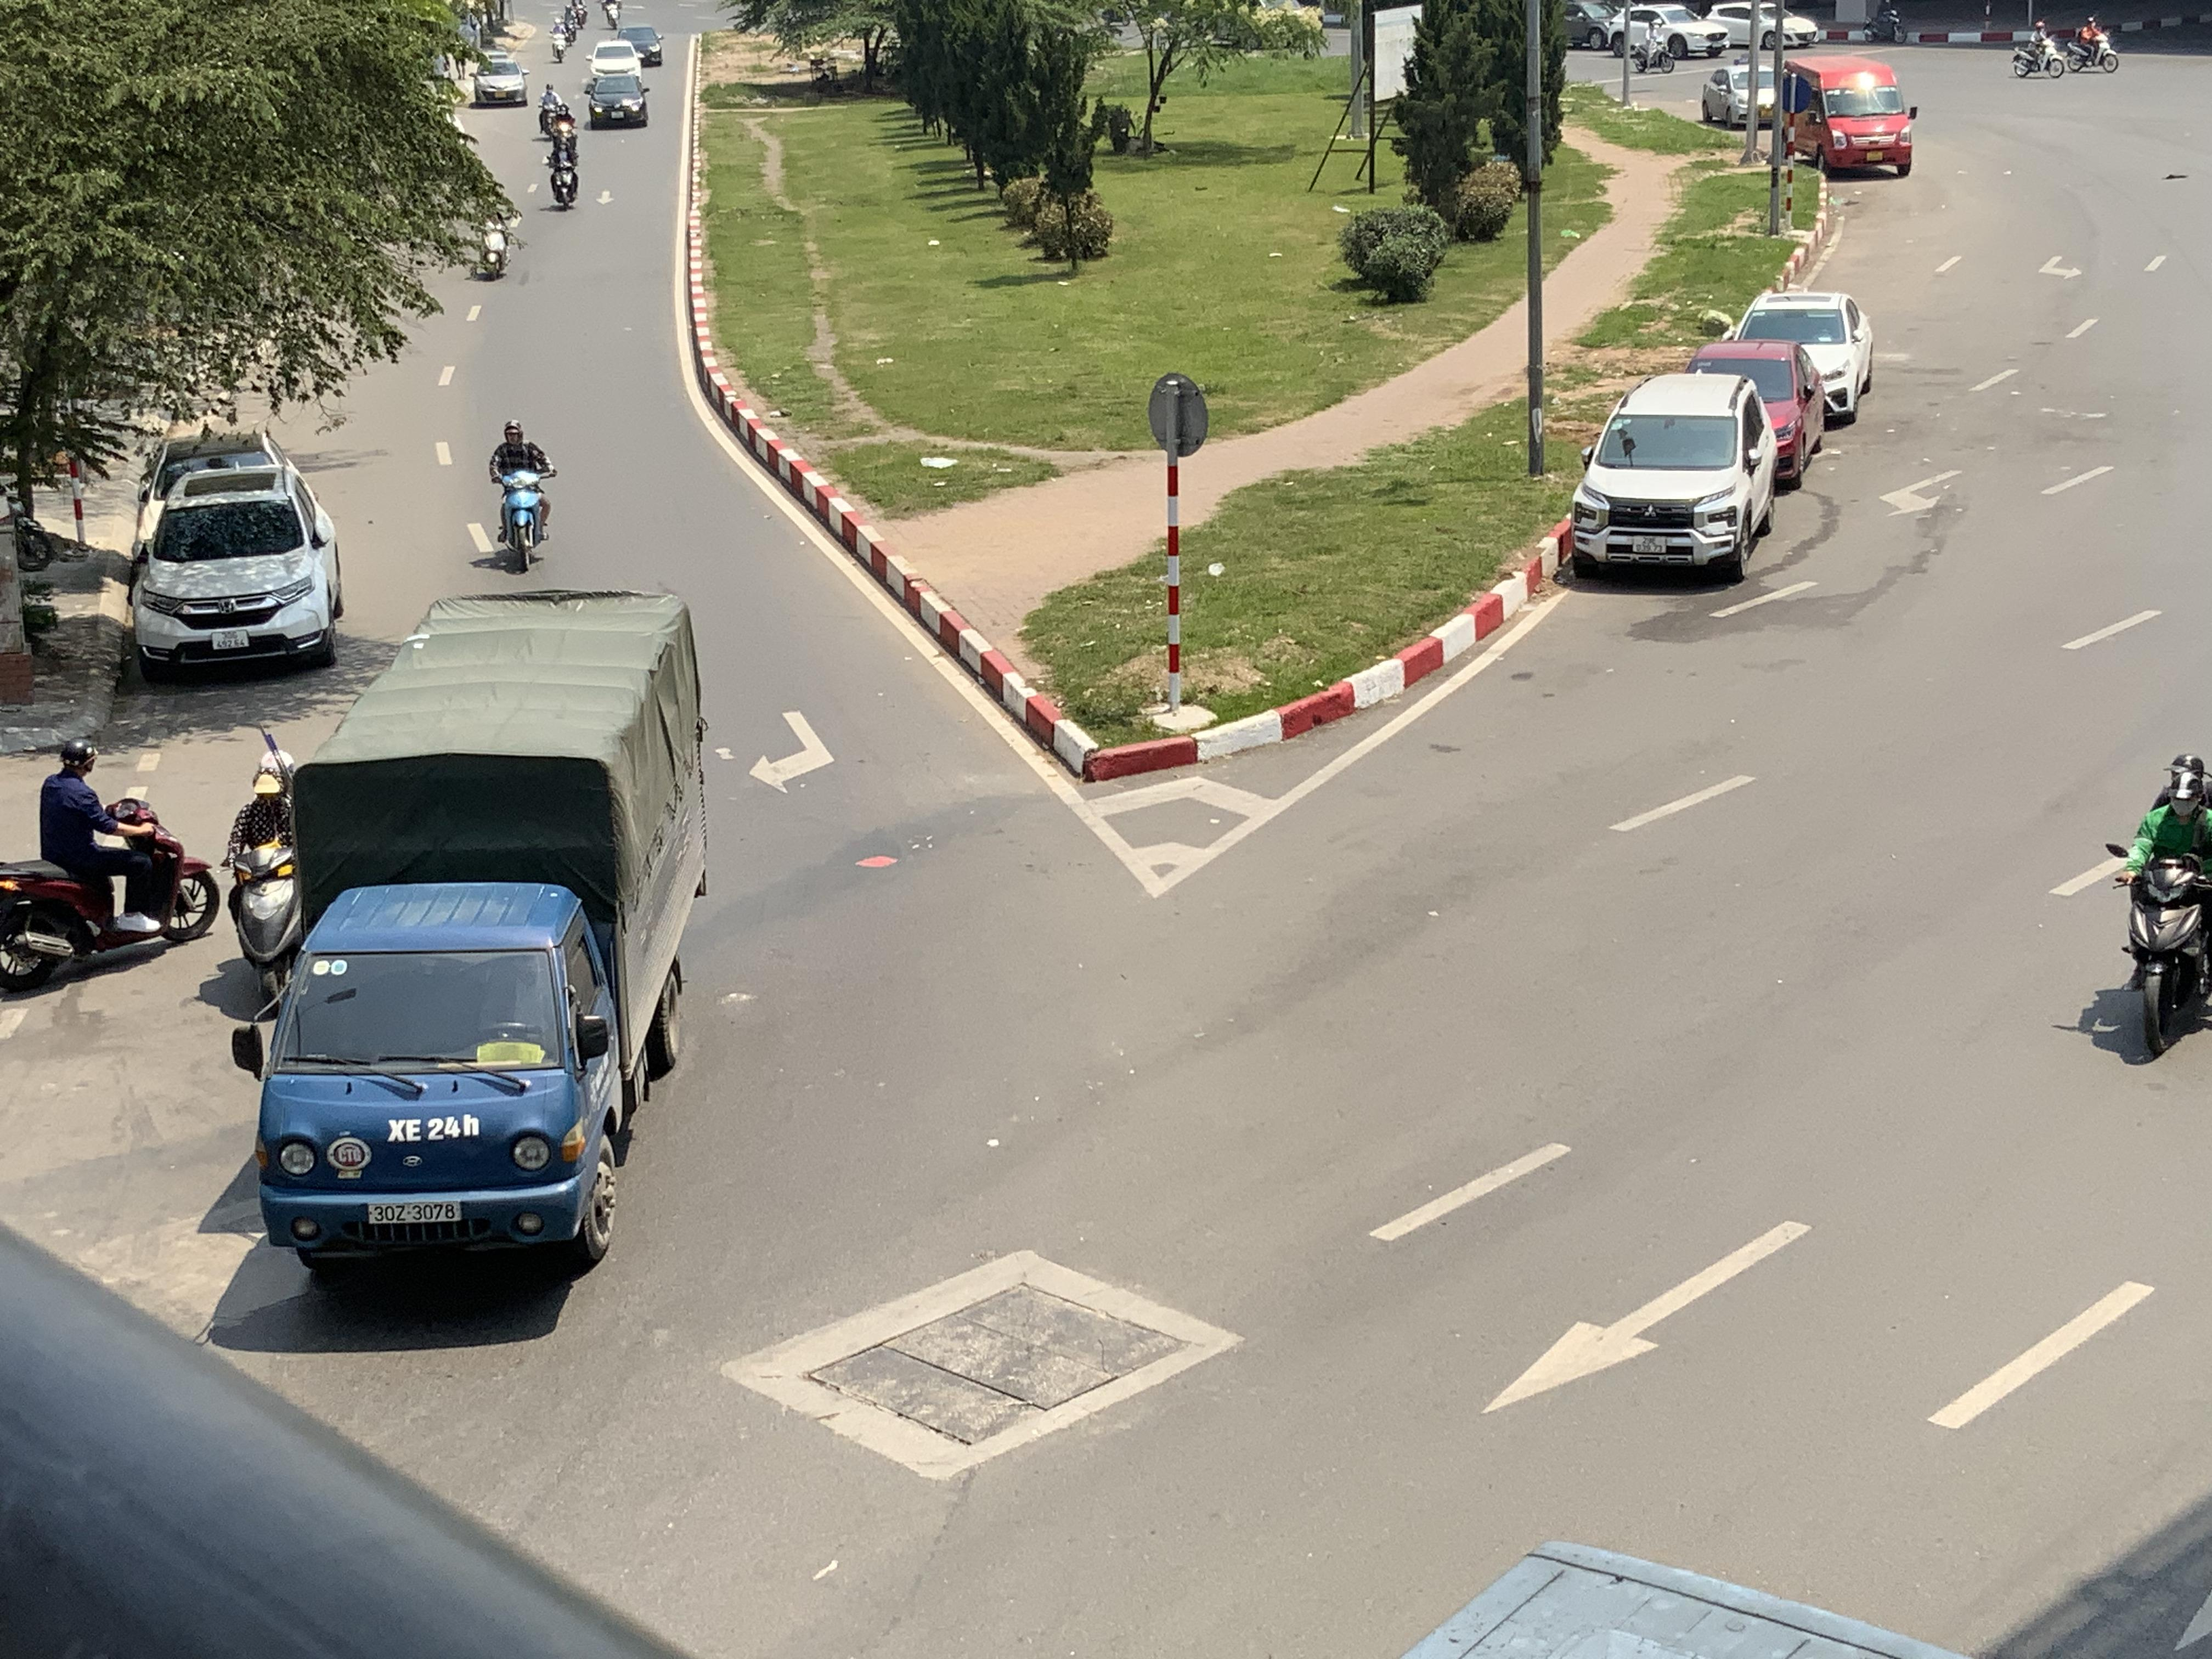BSD: (366, 1201, 460, 1225)
BSV: (211, 629, 251, 648), (1634, 535, 1667, 554)
car: (125, 443, 345, 678), (1562, 371, 1780, 584), (1688, 338, 1825, 495), (1733, 291, 1874, 427), (1782, 56, 1918, 179), (1623, 2, 1728, 63), (585, 68, 650, 129), (470, 54, 529, 106), (613, 24, 664, 66)
motorbike: (0, 737, 219, 993), (2109, 751, 2212, 1061), (488, 418, 556, 573), (2010, 10, 2067, 78), (470, 202, 519, 281), (2062, 10, 2120, 73), (543, 117, 580, 209), (536, 80, 577, 139)
truck: (230, 586, 714, 1283)
